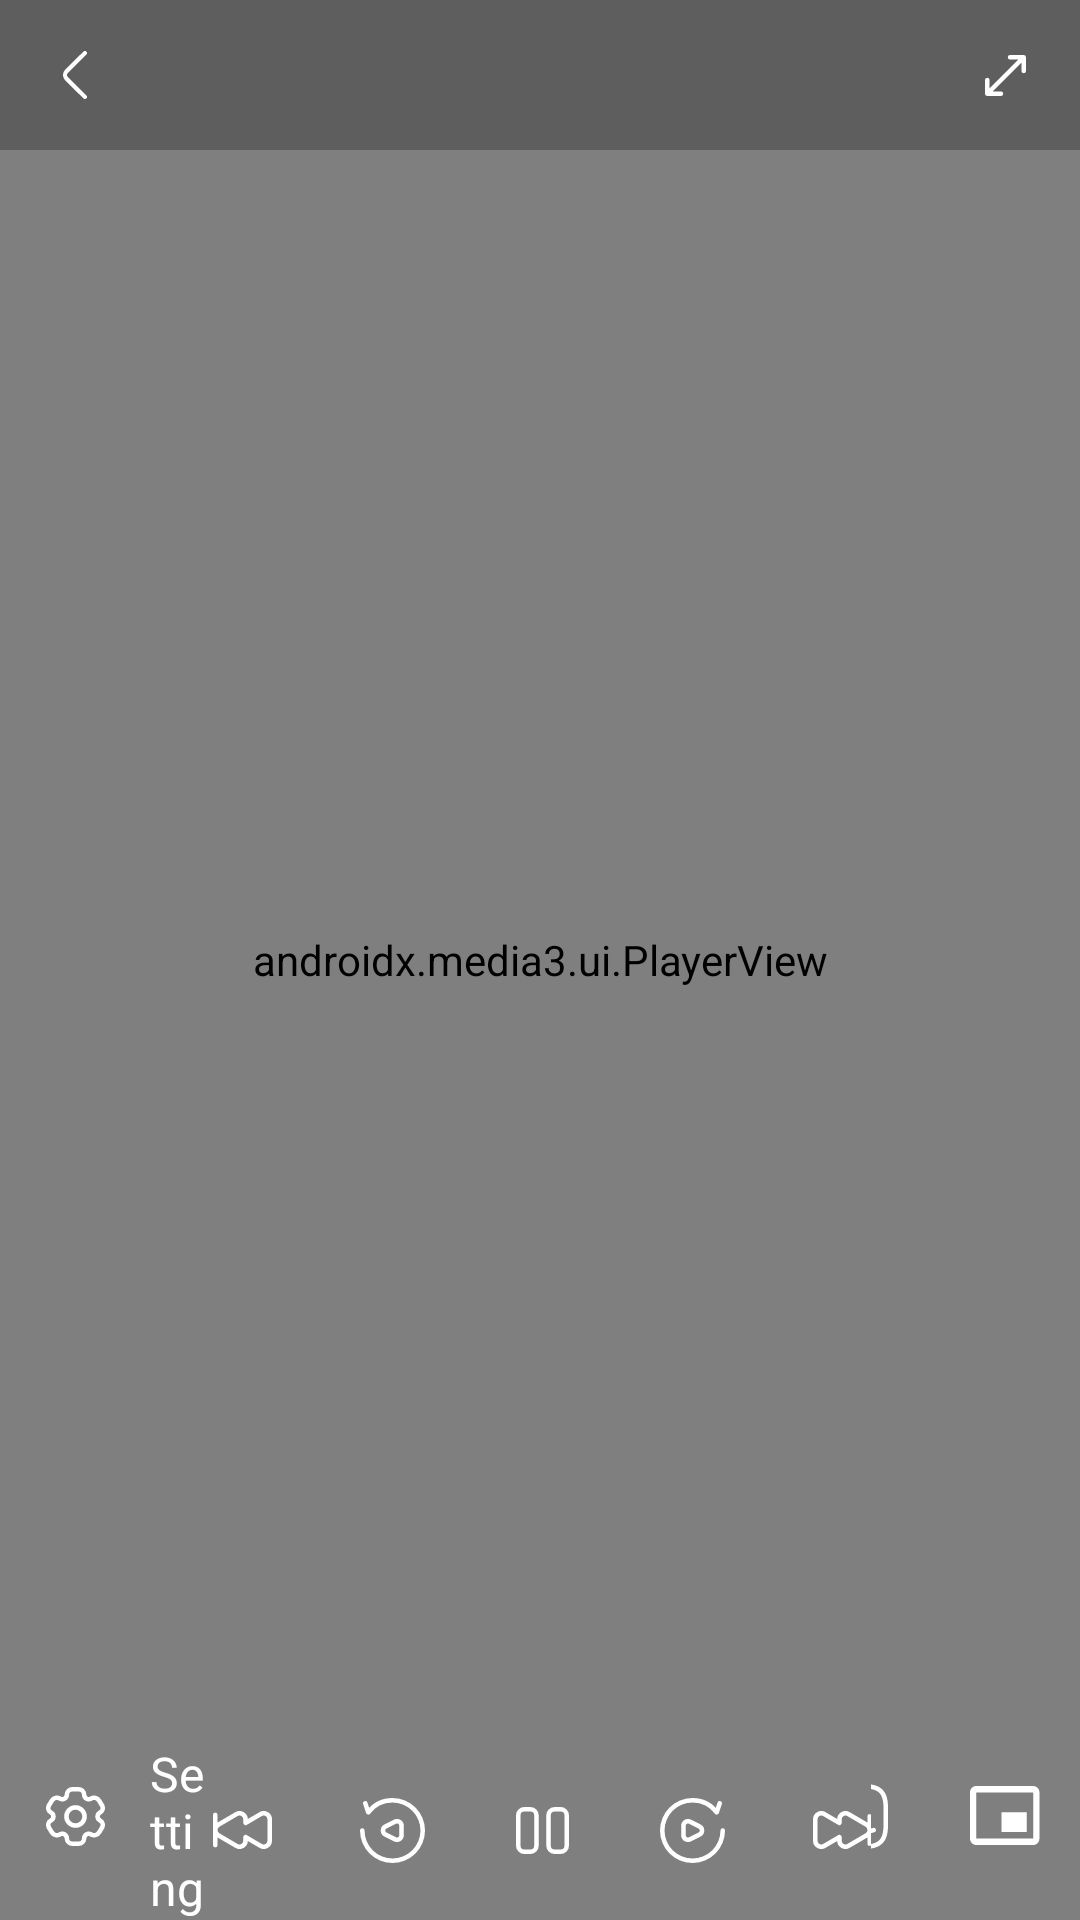

Where to tap for icons on this 1080×1920 app screen, as [x,y]:
back: [75,75]
fullscreen: [1005,75]
go back second: [392,1830]
go next second: [692,1830]
pause: [542,1830]
